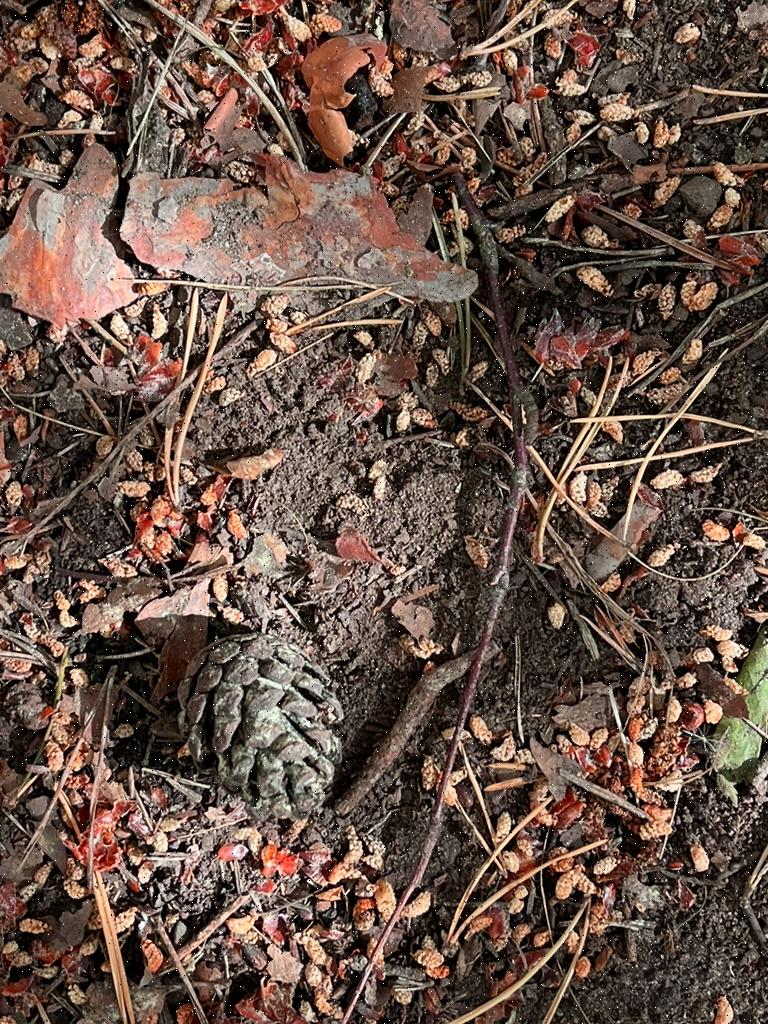pine: (174, 608, 341, 818)
